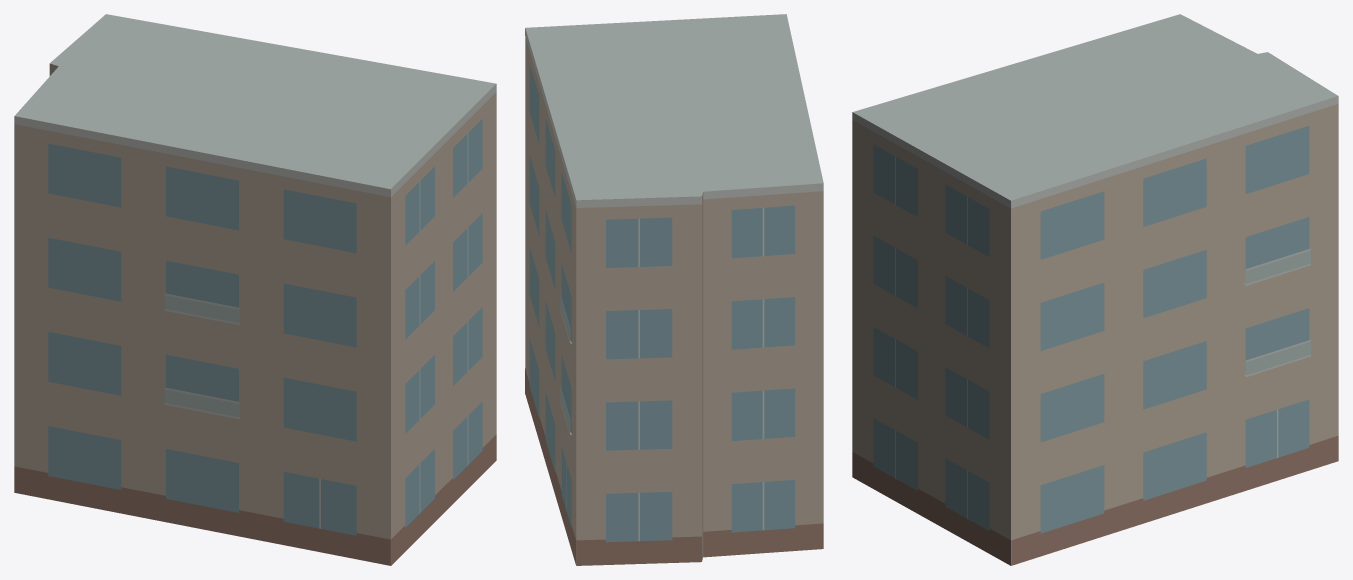
The model's file is survey-upis-32883611.glb.
3 renders of one model, left to right at view 1: azimuth 30°, elevation 25°; view 2: azimuth 150°, elevation 25°; view 3: azimuth 270°, elevation 25°, orthographic. The views are drawn at different scales.
Visible parts, largest first — view 1: survey-upis-32883611.tmp; view 2: survey-upis-32883611.tmp; view 3: survey-upis-32883611.tmp.
Boxes of the visible parts, x1,y1,x2,y2 form: survey-upis-32883611.tmp: (14,14,496,565); survey-upis-32883611.tmp: (525,14,823,565); survey-upis-32883611.tmp: (852,14,1338,565).
Bounding box in the file's own units: 12.57 × 11.45 × 13.83.
